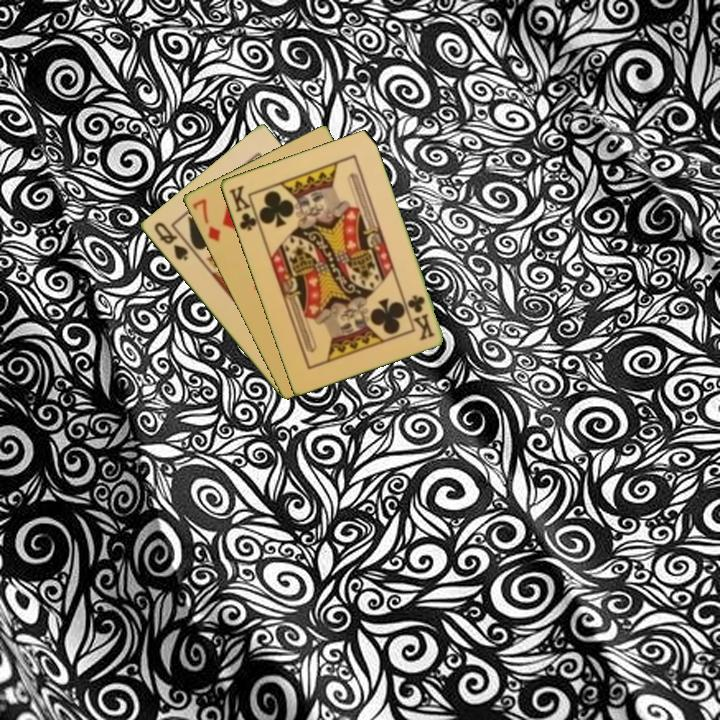7d: (189, 195, 223, 245)
Kc: (225, 182, 262, 234), (404, 291, 437, 343)
Qs: (150, 218, 191, 264)
